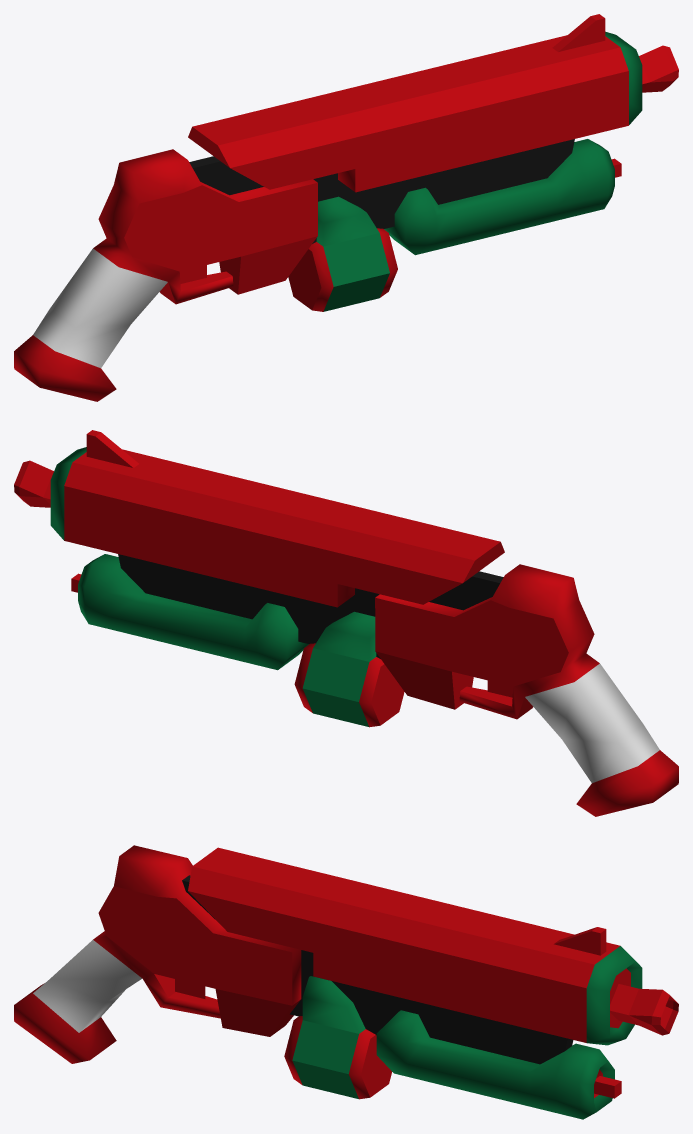
Rendered from shotgun.fbx.
3 renders of one model, top to bottom at view 1: azimuth 30°, elevation 25°; view 2: azimuth 150°, elevation 25°; view 3: azimuth 330°, elevation 25°, orthographic.
Parts seen in each view (by area): view 1: Cube.007; view 2: Cube.007; view 3: Cube.007.
Boxes of the visible parts, left/top/right/bottom form: Cube.007: left=14, top=14, right=678, bottom=401; Cube.007: left=14, top=430, right=678, bottom=816; Cube.007: left=14, top=845, right=678, bottom=1119.
Bounding box in the file's own units: 8097 × 3002 × 920.
